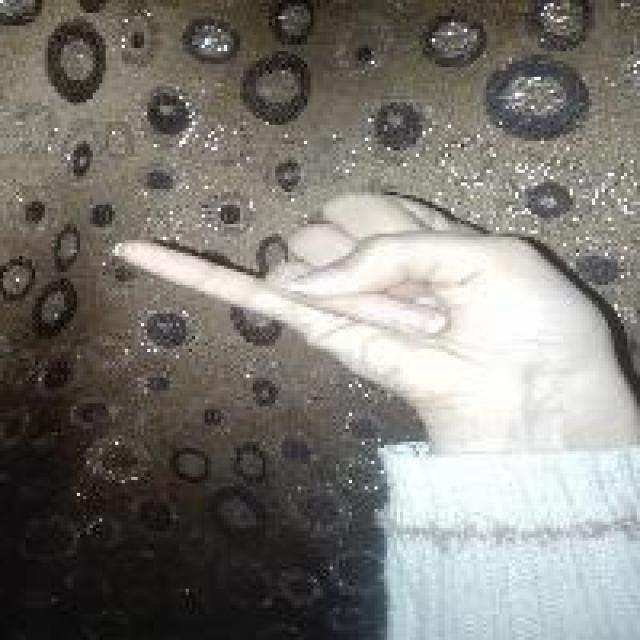J: (105, 178, 620, 398)
